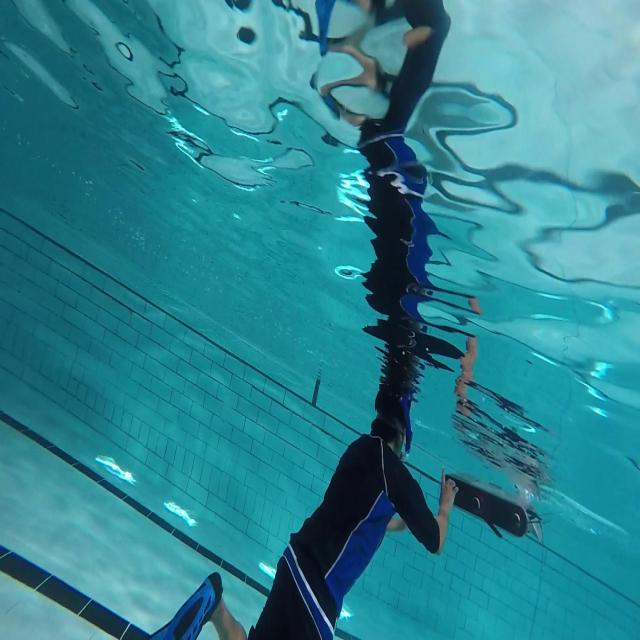human: (120, 383, 458, 639)
